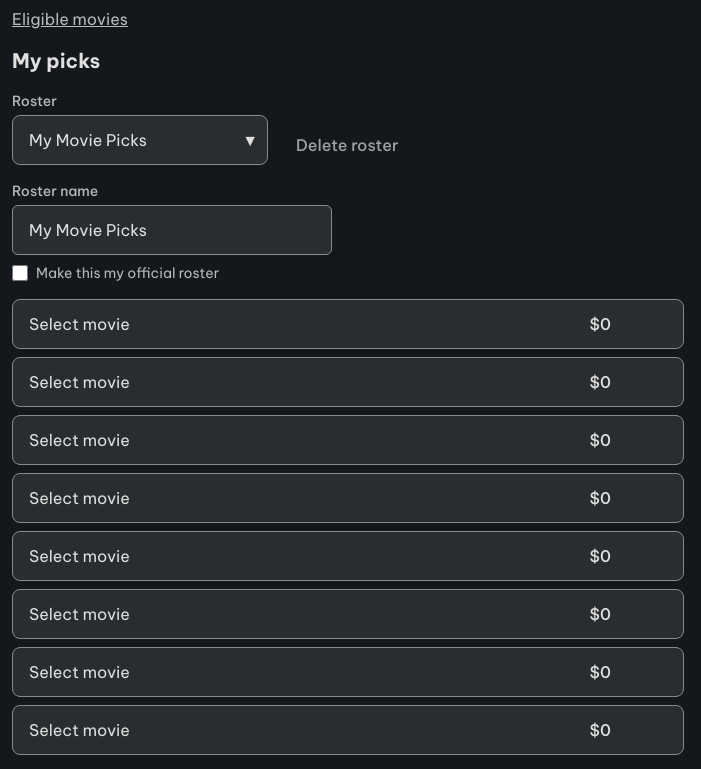
Test: MFL my picks › reflects the selected roster's official state and can switch it
Click the checkbox labelled "Make this my official roster".
click(20, 273)  # box [12,265,28,281]
(page scrolled)
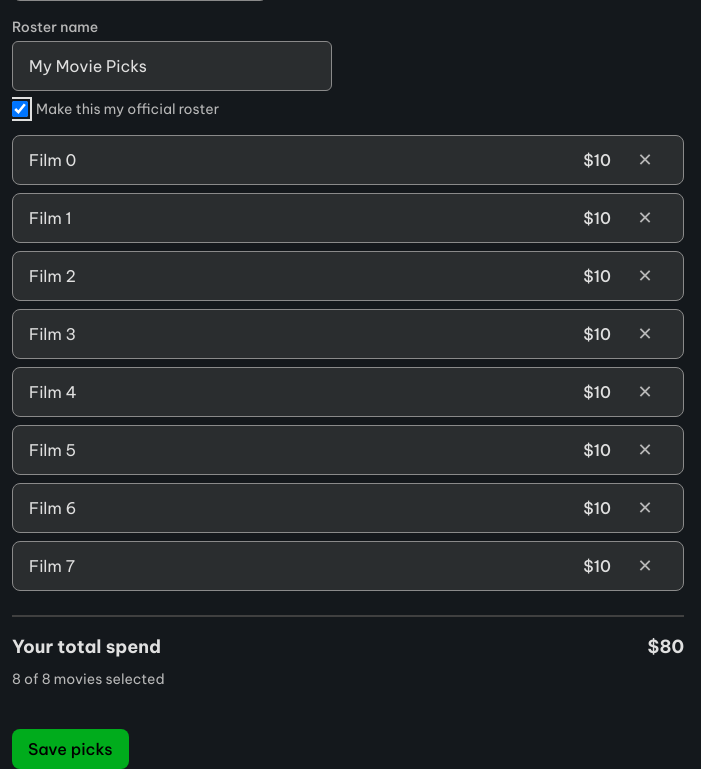
Click the button "Save picks".
click(70, 749)  # box [12,729,128,768]
(page scrolled)
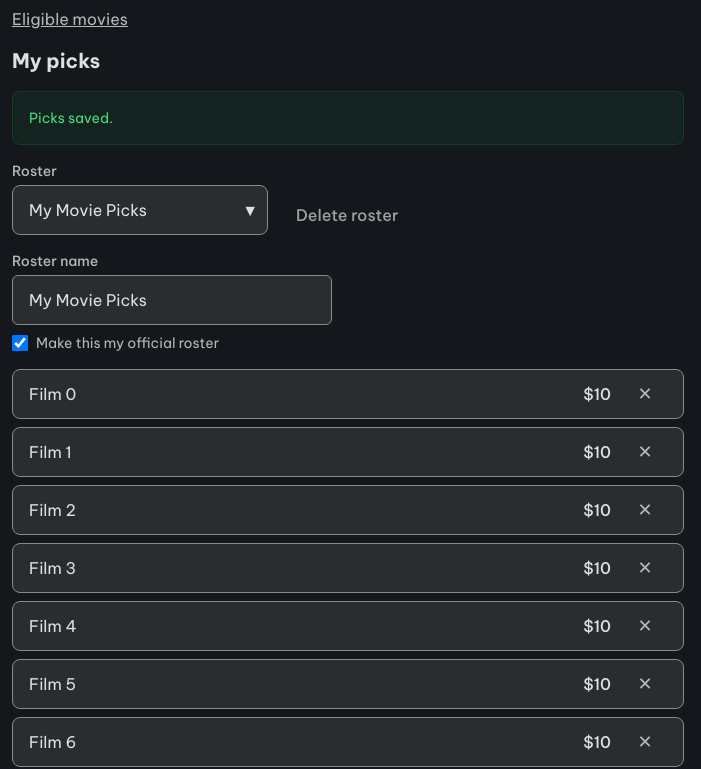
Now the text "Picks saved." is shown, box [12,91,684,145]
